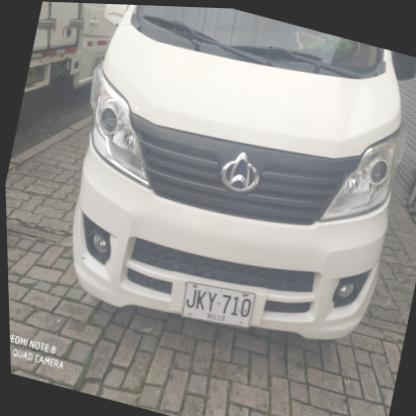placa: (171, 270, 261, 336)
